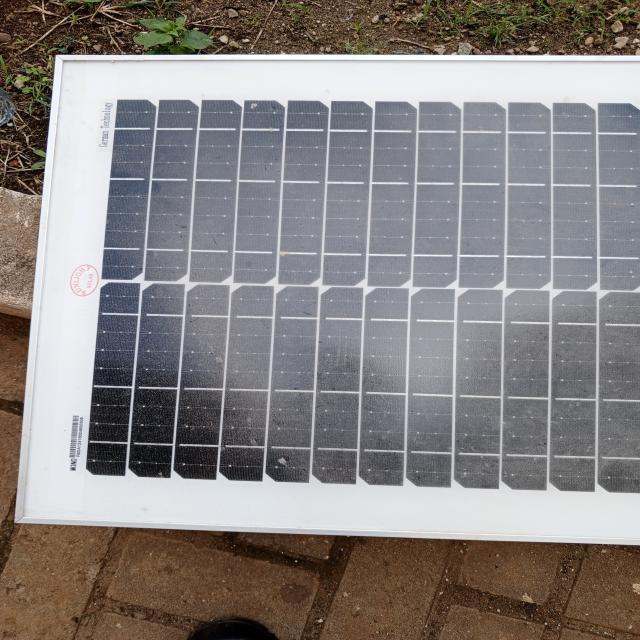Surface Contaminant: (100, 88, 639, 500)
